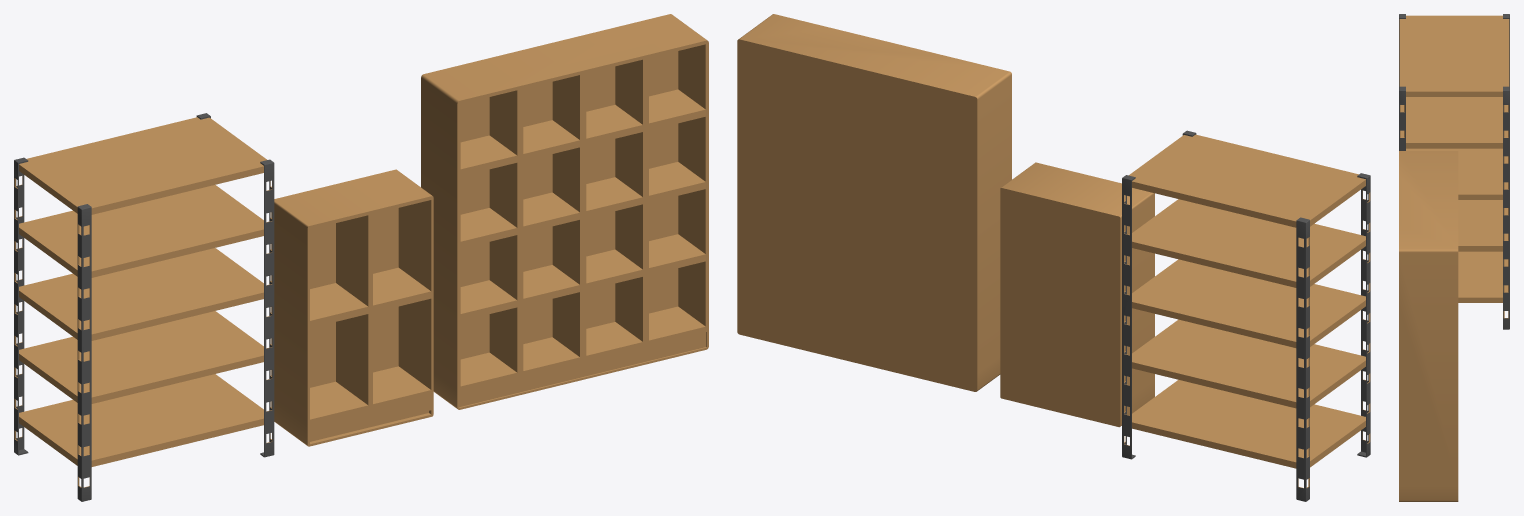
Rendered from Lemari dan Rak Penyimpanan.fbx.
3 views of the same model, side by side, from view 1: azimuth 30°, elevation 25°; view 2: azimuth 150°, elevation 25°; view 3: azimuth 270°, elevation 25° (orthographic). The views are drawn at different scales.
Parts seen in each view (by area): view 1: Lemari besar, Lemari kayu dan besi, Lemari sedang; view 2: Lemari besar, Lemari kayu dan besi, Lemari sedang; view 3: Lemari kayu dan besi, Lemari besar.
Part boxes in pixels (x1,y1,x2,y2): Lemari besar: (421, 14, 708, 409); Lemari kayu dan besi: (14, 113, 274, 501); Lemari sedang: (271, 169, 433, 446); Lemari besar: (737, 14, 1011, 391); Lemari kayu dan besi: (1122, 130, 1370, 501); Lemari sedang: (1000, 162, 1154, 427); Lemari kayu dan besi: (1399, 14, 1509, 329); Lemari besar: (1399, 151, 1458, 501).
Bounding box in the file's own units: 499 × 235 × 93.38.
